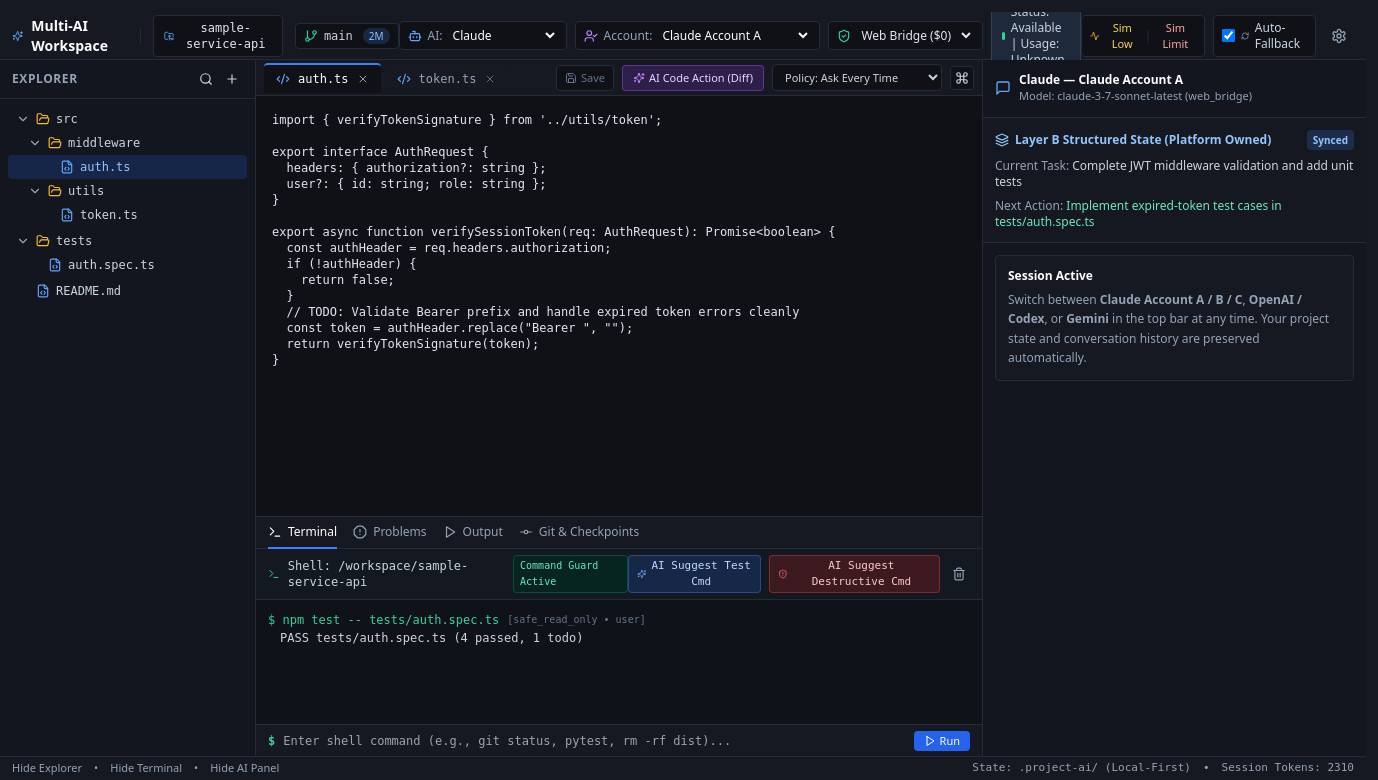
Test: Phase 1: Multi-AI Development Workspace Application Shell › displays limit-reached banner with reset estimate and switches cleanly on click
Click the button with test id "simulate-limit-reached-btn".
click(1175, 36)  # box [1155,20,1196,52]
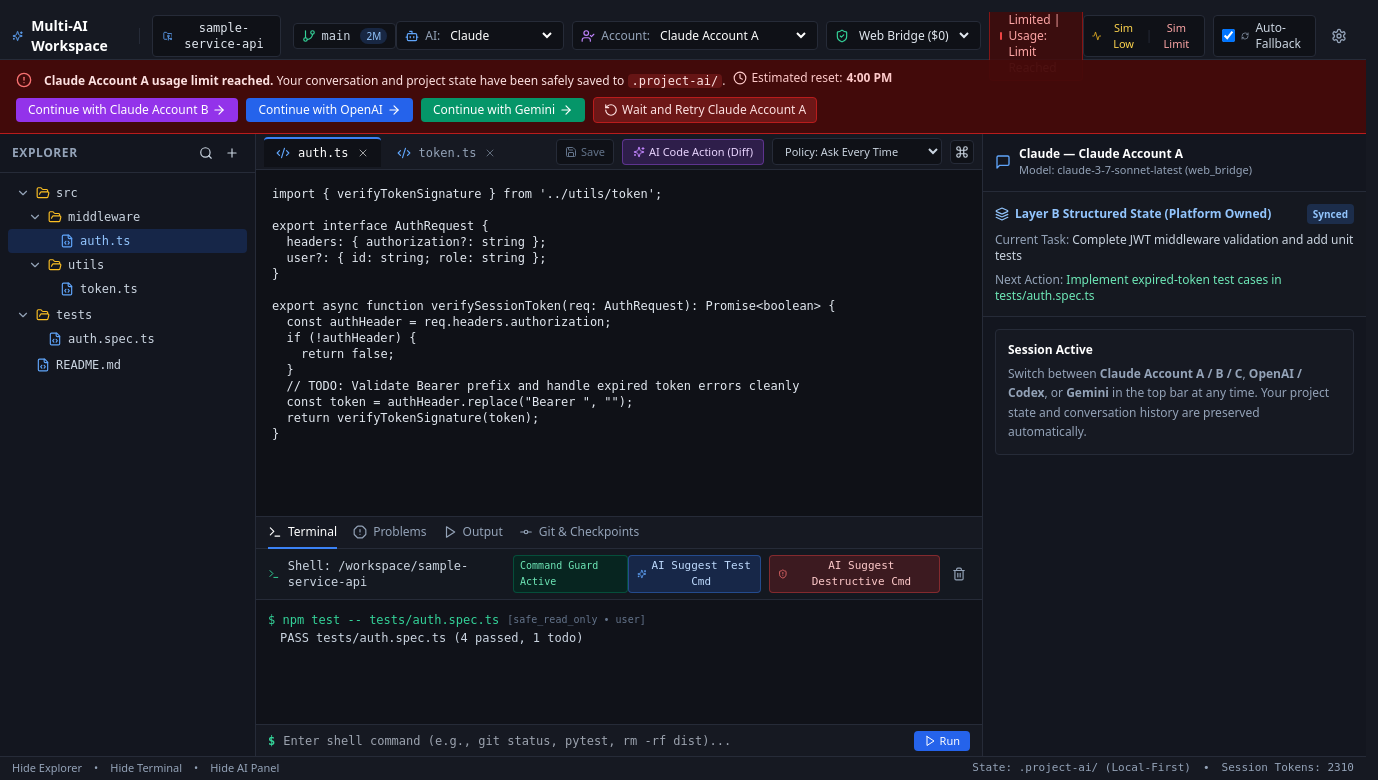
Result: the element with test id "limit-reached-banner" shows "Claude Account A usage limit reached." at [0,60,1366,134]
Result: the element with test id "limit-reached-banner" shows "4:00 PM" at [846,69,892,86]
Click "Continue with Claude Account B" directly from the limit banner
Click the button with test id "banner-switch-claude-account-btn".
click(127, 110)  # box [16,98,238,122]
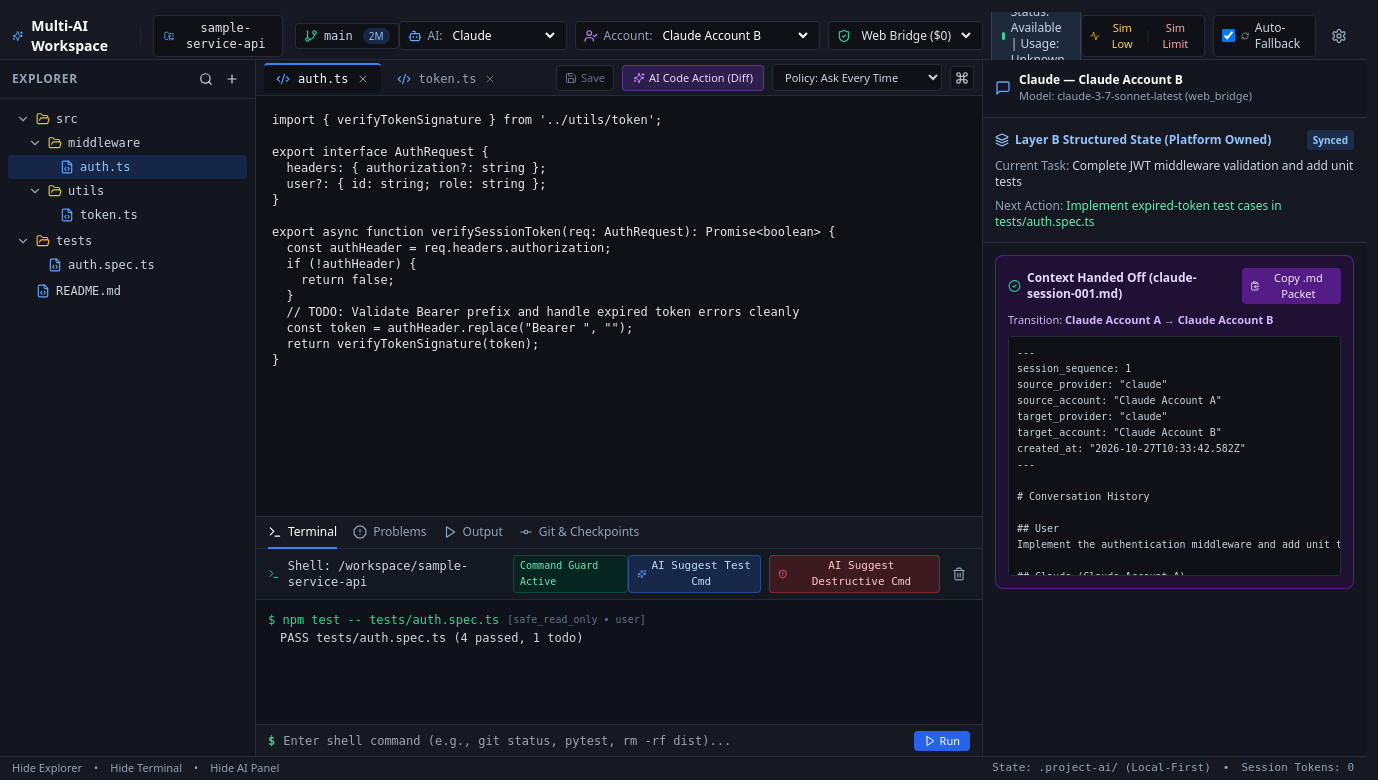
Result: the text with test id "ai-panel-active-identity" reads "Claude — Claude Account B" at [1019,71,1183,88]
